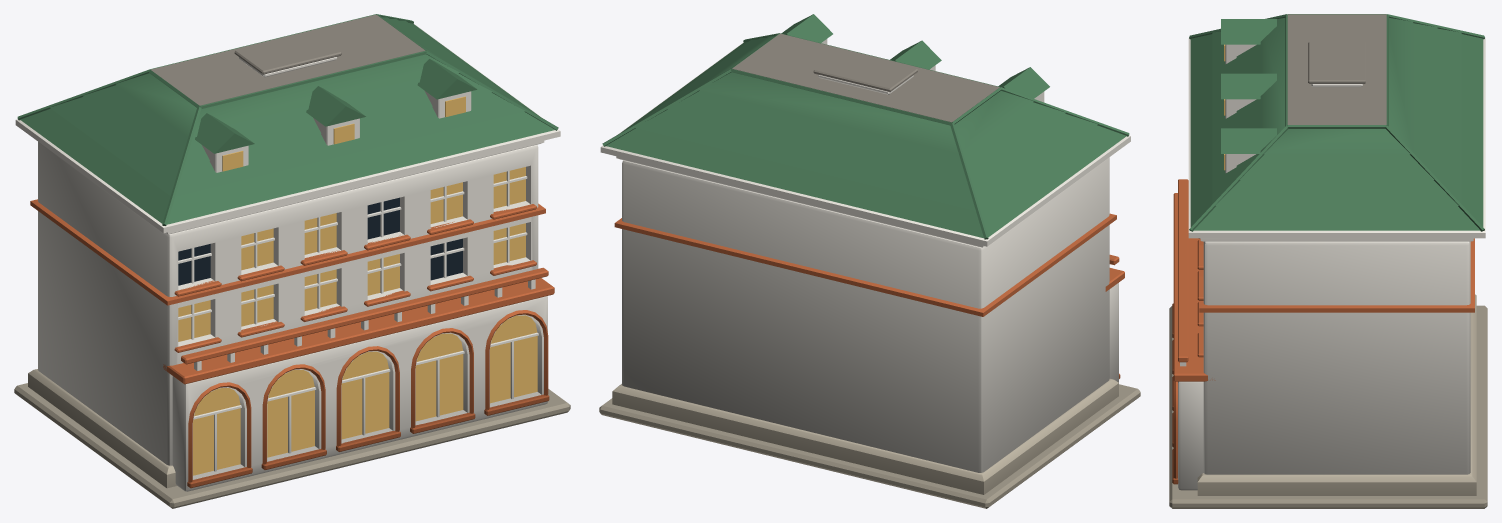
The model's file is bh_maurice.glb.
The picture shows the model from 3 angles, left to right: view 1: azimuth 30°, elevation 25°; view 2: azimuth 150°, elevation 25°; view 3: azimuth 270°, elevation 25°; orthographic projection. The views are drawn at different scales.
Parts seen in each view (by area): view 1: bh_maurice; view 2: bh_maurice; view 3: bh_maurice.
Boxes of the visible parts, left/top/right/bottom form: bh_maurice: left=14, top=14, right=570, bottom=508; bh_maurice: left=599, top=14, right=1140, bottom=508; bh_maurice: left=1169, top=14, right=1487, bottom=508.
Bounding box in the file's own units: 0.0216 × 0.018 × 0.0148.
